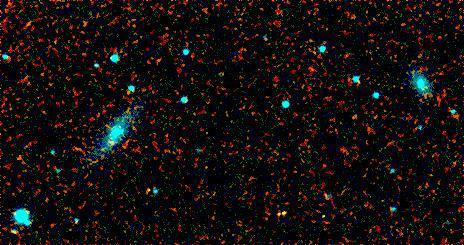star: (265, 199, 295, 229)
